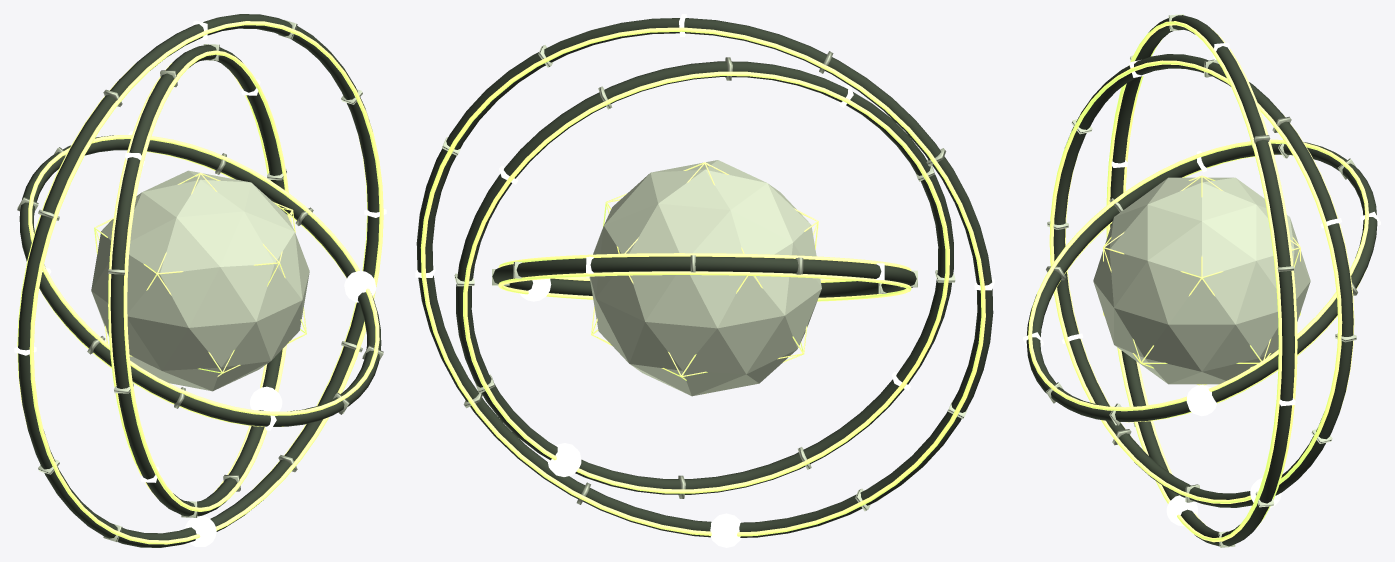
File: lumora-blender-core.glb
3 views of the same model, side by side, from view 1: azimuth 30°, elevation 25°; view 2: azimuth 150°, elevation 25°; view 3: azimuth 270°, elevation 25° (orthographic). The views are drawn at different scales.
Visible parts, largest first — view 1: Faceted_Knowledge_Nucleus, Titanium_Orbit_3, Titanium_Orbit_2, Titanium_Orbit_1, Lime_Orbit_Rail_3_0.045, Lime_Orbit_Rail_1_0.045, Lime_Orbit_Rail_2_0.045, Lime_Orbit_Rail_2_-0.045, Nucleus_Lime_Lattice, Lime_Orbit_Rail_3_-0.045, Orbit_1_Signal_Beacon, Orbit_2_Signal_Beacon (+2 smaller); view 2: Faceted_Knowledge_Nucleus, Titanium_Orbit_3, Titanium_Orbit_2, Lime_Orbit_Rail_3_-0.045, Titanium_Orbit_1, Lime_Orbit_Rail_2_-0.045, Lime_Orbit_Rail_1_-0.045, Lime_Orbit_Rail_1_0.045, Nucleus_Lime_Lattice, Orbit_3_Signal_Beacon, Orbit_2_Signal_Beacon; view 3: Faceted_Knowledge_Nucleus, Titanium_Orbit_2, Titanium_Orbit_3, Titanium_Orbit_1, Lime_Orbit_Rail_2_0.045, Lime_Orbit_Rail_3_0.045, Lime_Orbit_Rail_1_0.045, Lime_Orbit_Rail_3_-0.045, Nucleus_Lime_Lattice, Orbit_1_Signal_Beacon, Lime_Orbit_Rail_2_-0.045, Lime_Orbit_Rail_1_-0.045 (+1 smaller).
Part boxes in pixels (bbox=[...]): Faceted_Knowledge_Nucleus: bbox=[91, 170, 309, 391]; Titanium_Orbit_3: bbox=[18, 14, 379, 547]; Titanium_Orbit_2: bbox=[110, 44, 287, 516]; Titanium_Orbit_1: bbox=[19, 135, 381, 426]; Lime_Orbit_Rail_3_0.045: bbox=[29, 21, 383, 544]; Lime_Orbit_Rail_1_0.045: bbox=[28, 135, 379, 415]; Lime_Orbit_Rail_2_0.045: bbox=[123, 50, 291, 511]; Lime_Orbit_Rail_2_-0.045: bbox=[108, 63, 270, 497]; Nucleus_Lime_Lattice: bbox=[94, 172, 306, 389]; Lime_Orbit_Rail_3_-0.045: bbox=[17, 63, 367, 488]; Orbit_1_Signal_Beacon: bbox=[344, 270, 376, 302]; Orbit_2_Signal_Beacon: bbox=[250, 386, 282, 411]; Faceted_Knowledge_Nucleus: bbox=[589, 160, 821, 396]; Titanium_Orbit_3: bbox=[416, 18, 993, 537]; Titanium_Orbit_2: bbox=[456, 61, 953, 494]; Lime_Orbit_Rail_3_-0.045: bbox=[420, 27, 985, 536]; Titanium_Orbit_1: bbox=[492, 256, 916, 297]; Lime_Orbit_Rail_2_-0.045: bbox=[463, 71, 949, 493]; Lime_Orbit_Rail_1_-0.045: bbox=[498, 271, 911, 301]; Lime_Orbit_Rail_1_0.045: bbox=[498, 253, 911, 282]; Nucleus_Lime_Lattice: bbox=[591, 162, 818, 393]; Orbit_3_Signal_Beacon: bbox=[710, 513, 741, 547]; Orbit_2_Signal_Beacon: bbox=[547, 443, 581, 476]; Faceted_Knowledge_Nucleus: bbox=[1093, 177, 1310, 384]; Titanium_Orbit_2: bbox=[1053, 54, 1353, 507]; Titanium_Orbit_3: bbox=[1110, 15, 1294, 546]; Titanium_Orbit_1: bbox=[1026, 142, 1377, 421]; Lime_Orbit_Rail_2_0.045: bbox=[1049, 60, 1342, 503]; Lime_Orbit_Rail_3_0.045: bbox=[1106, 21, 1282, 542]; Lime_Orbit_Rail_1_0.045: bbox=[1028, 139, 1368, 411]; Lime_Orbit_Rail_3_-0.045: bbox=[1123, 28, 1297, 528]; Nucleus_Lime_Lattice: bbox=[1103, 175, 1300, 385]; Orbit_1_Signal_Beacon: bbox=[1186, 384, 1216, 416]; Lime_Orbit_Rail_2_-0.045: bbox=[1065, 111, 1354, 446]; Lime_Orbit_Rail_1_-0.045: bbox=[1049, 154, 1362, 422].
Bounding box in the file's own units: 2.91 × 3.09 × 2.04.
